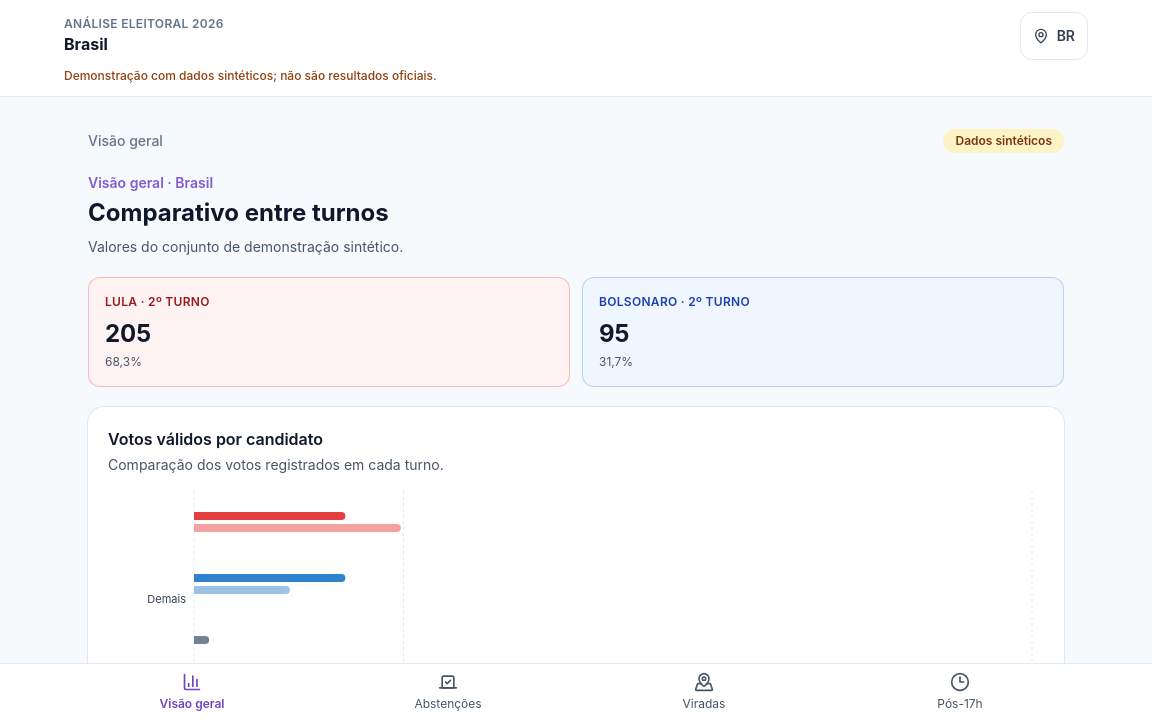
Test: election dashboard › rejects an empty state file rather than showing empty metrics as valid data
Expected: the heading "Comparativo entre turnos" is shown, [88,198,389,227]
Click the button with aria-label "Selecionar estado" at (1054, 36), box [1020,12,1088,60]
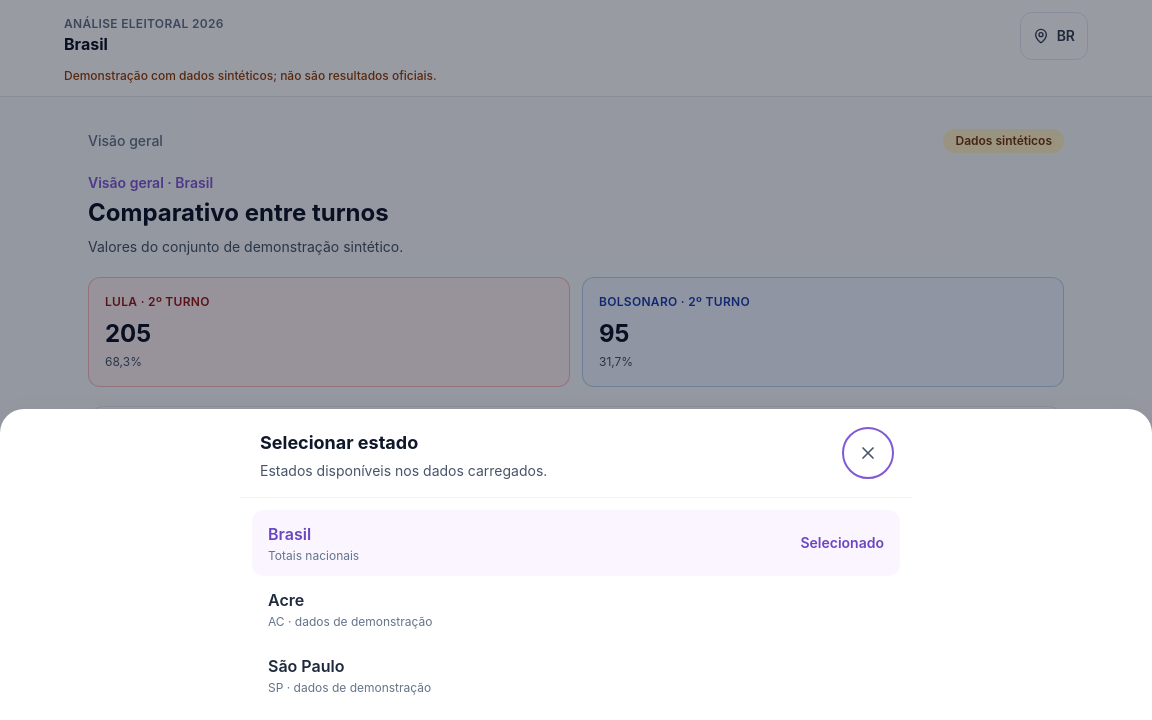
Click the button "Acre AC · dados de demonstração" at (286, 600), box [252,576,900,642]
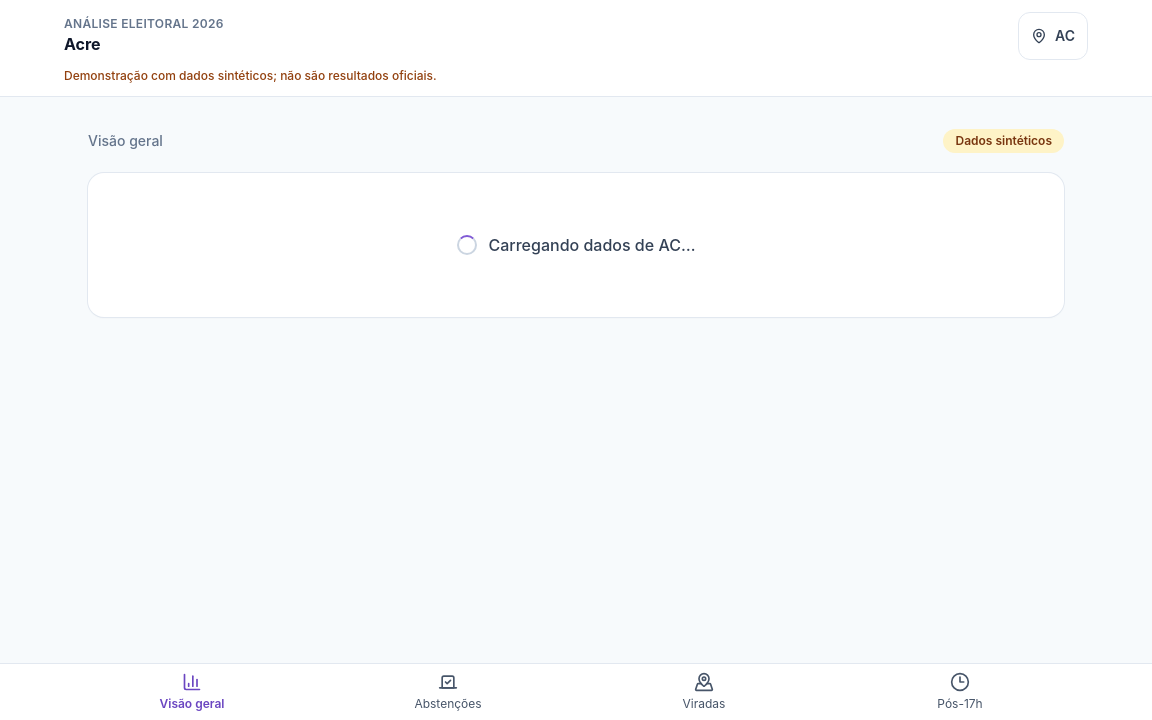
Click the button "Viradas" at (704, 692), box [576,664,832,719]
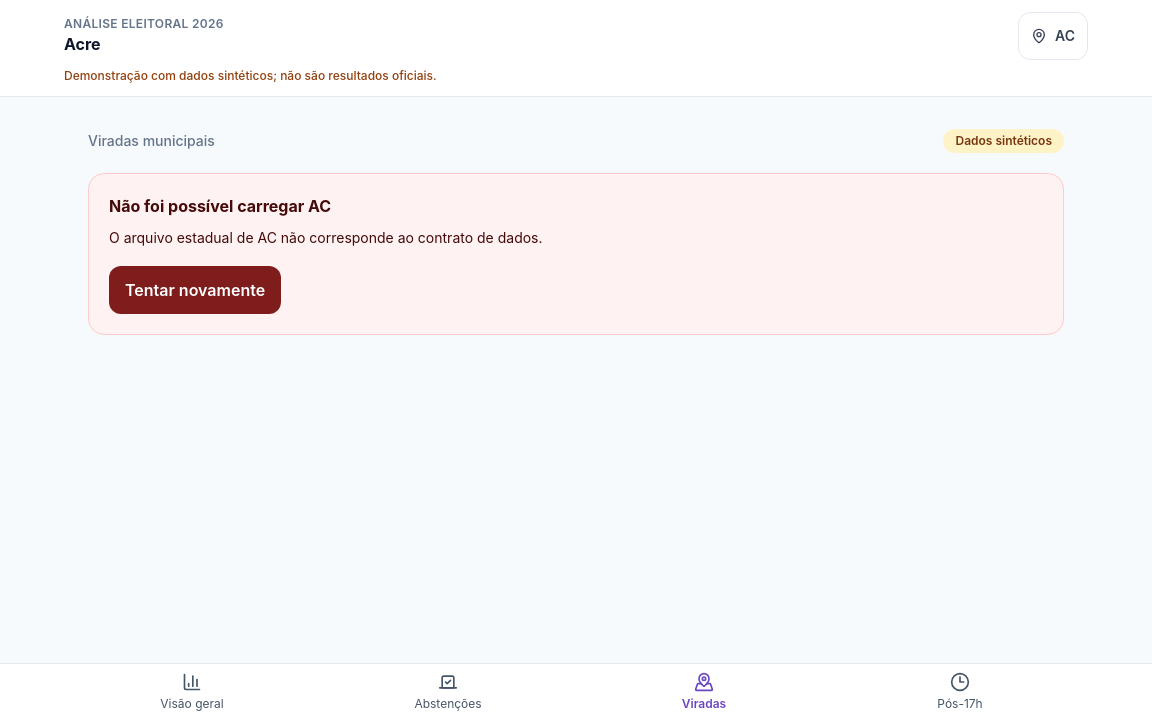
Now the heading "Não foi possível carregar AC" is shown, box [109,196,331,216]
